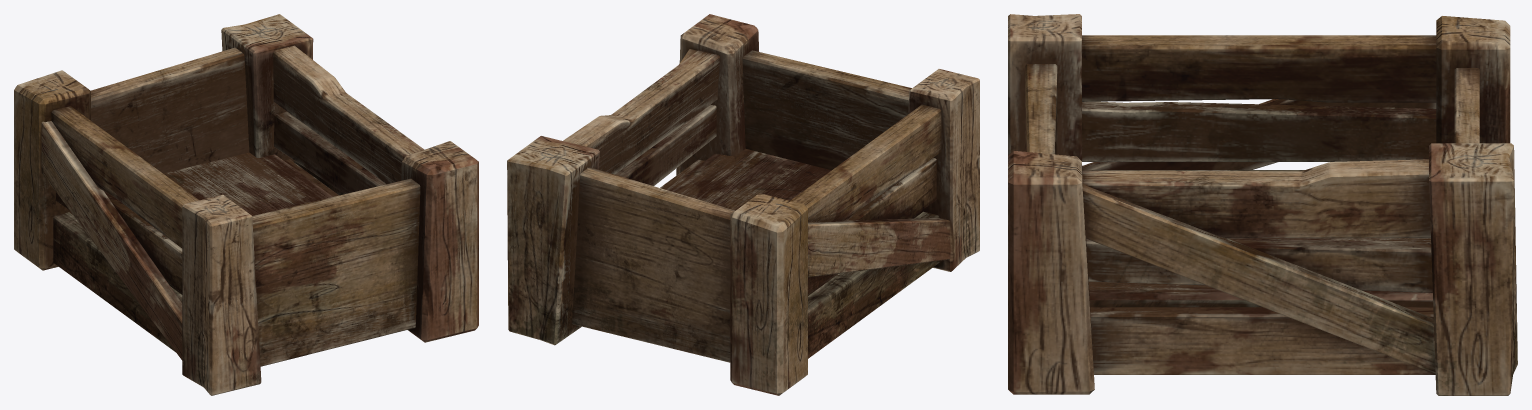
3 views of the same model, side by side, from view 1: azimuth 30°, elevation 25°; view 2: azimuth 150°, elevation 25°; view 3: azimuth 270°, elevation 25° (orthographic). The views are drawn at different scales.
Visible parts, largest first — view 1: SM_Box_LOD0; view 2: SM_Box_LOD0; view 3: SM_Box_LOD0.
Part boxes in pixels (<box>): SM_Box_LOD0: <box>14,14,478,395</box>; SM_Box_LOD0: <box>507,14,979,395</box>; SM_Box_LOD0: <box>1008,14,1517,395</box>.
Size of the model in its own units: 179 by 231 by 109.
